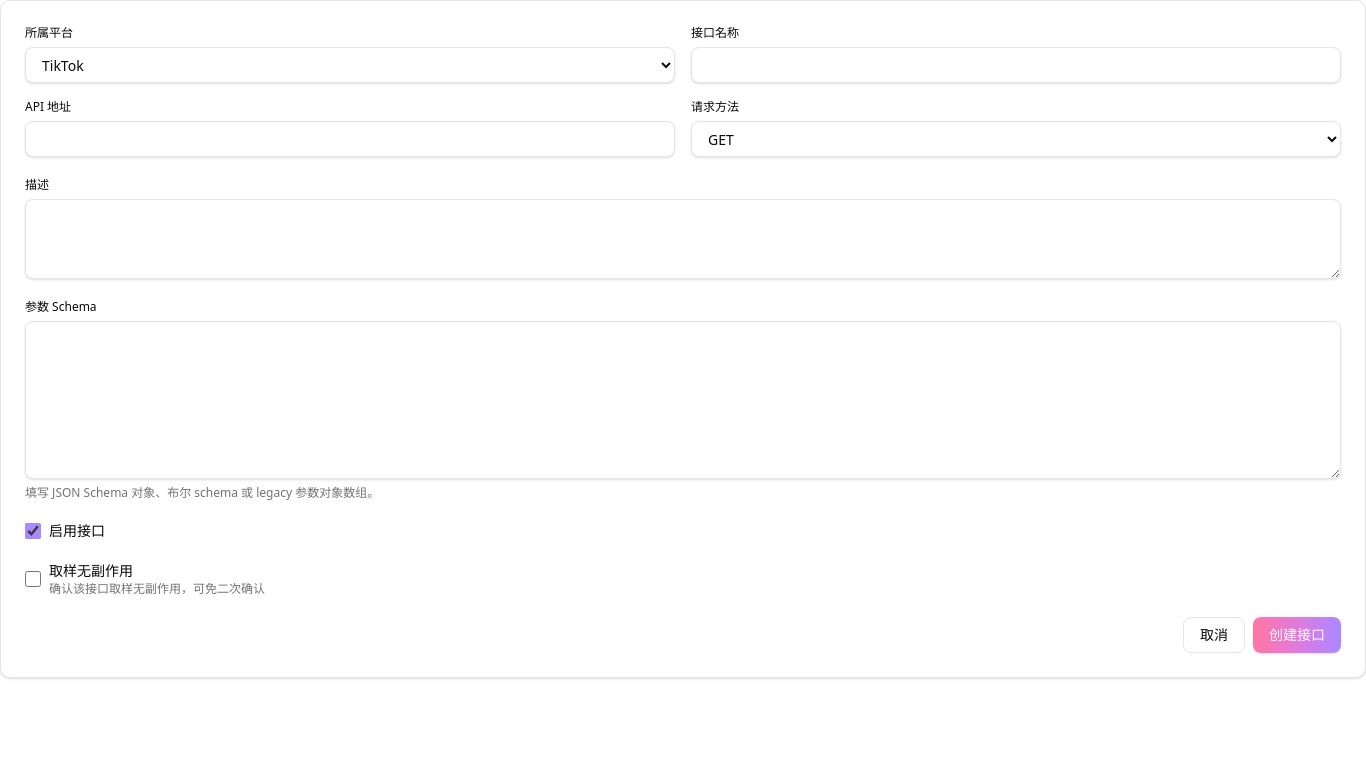
ActionForm › 拒绝不支持的参数 Schema："text"
The width and height of the screenshot is (1366, 768).
In the field labelled "接口名称": (1016, 65) [691,47,1341,83], type "getUser"
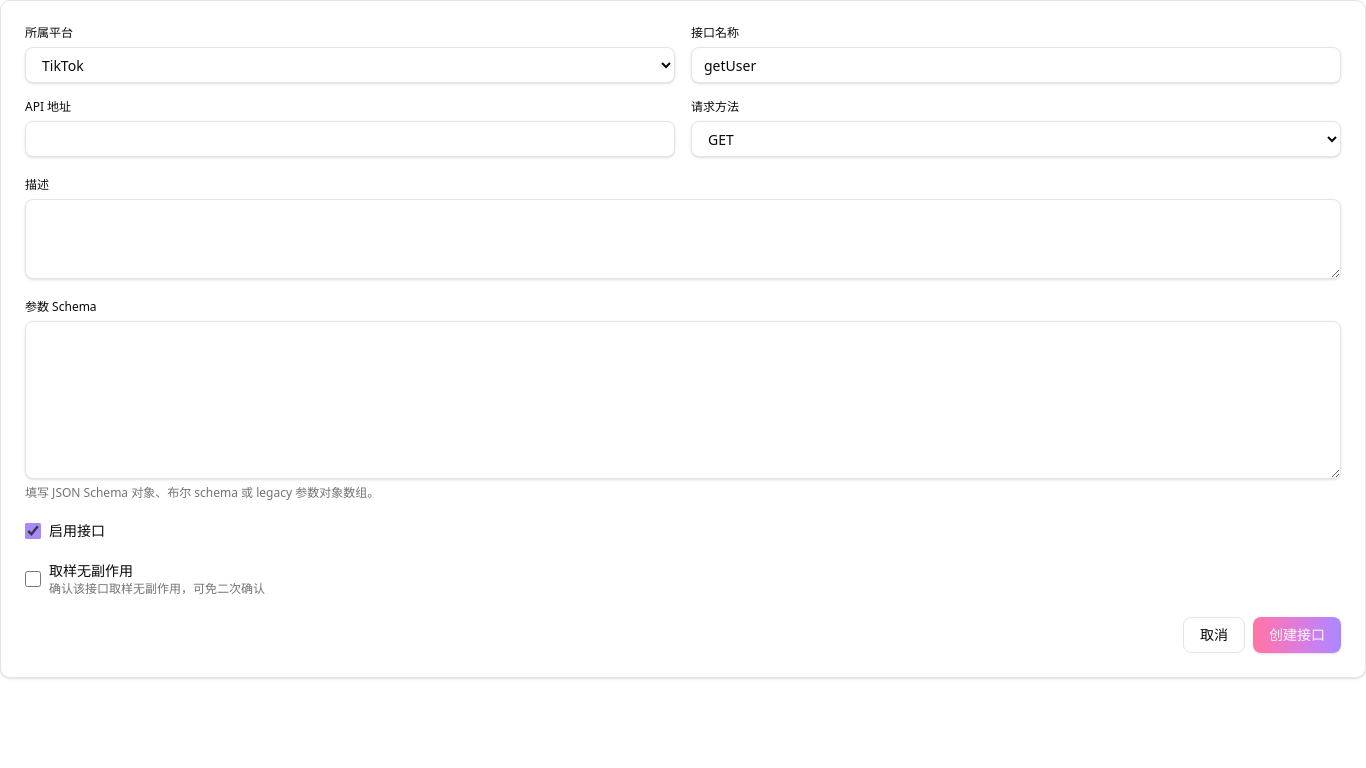
In the text box labelled "参数 Schema": (683, 400) [25,321,1341,479], type "\"text\""
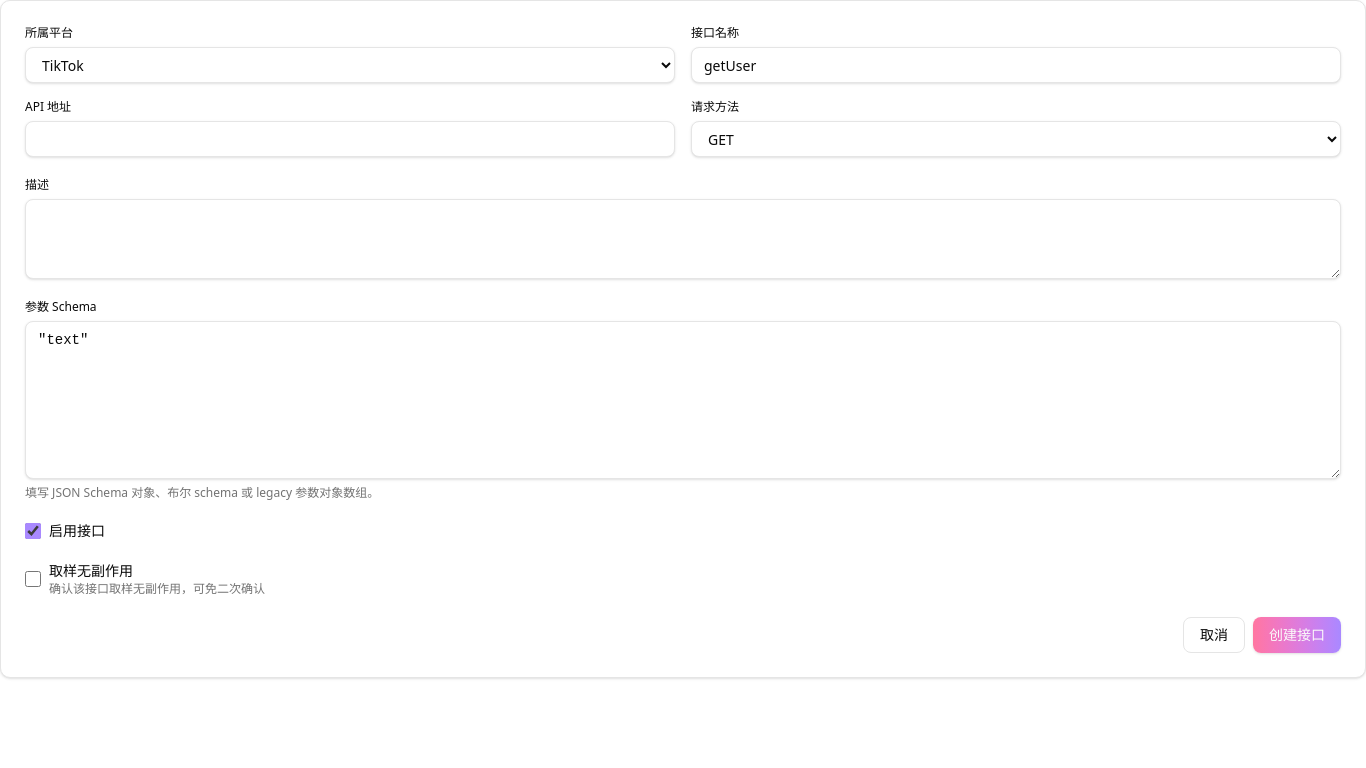
Submit the form named "创建接口"
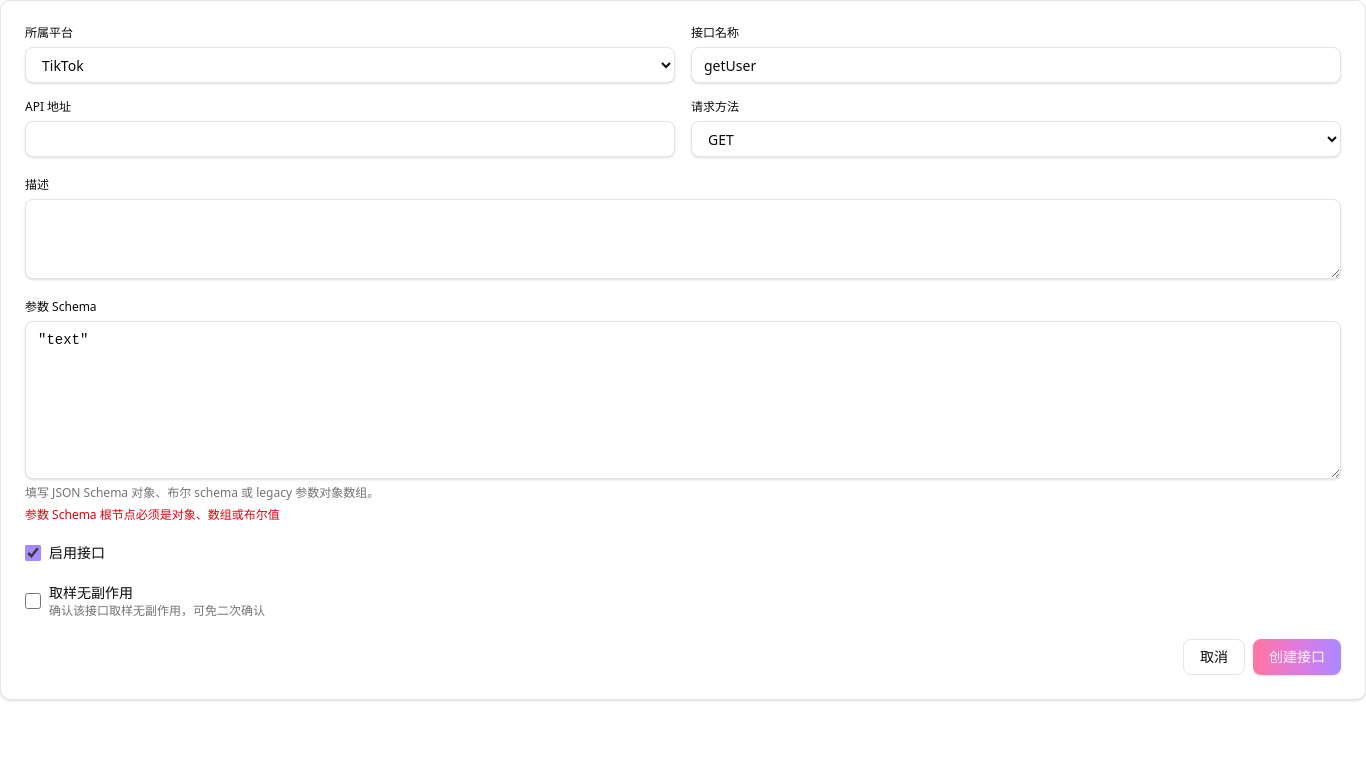
Now the text "参数 Schema 根节点必须是对象、数组或布尔值" is shown, box [25,506,280,523]
